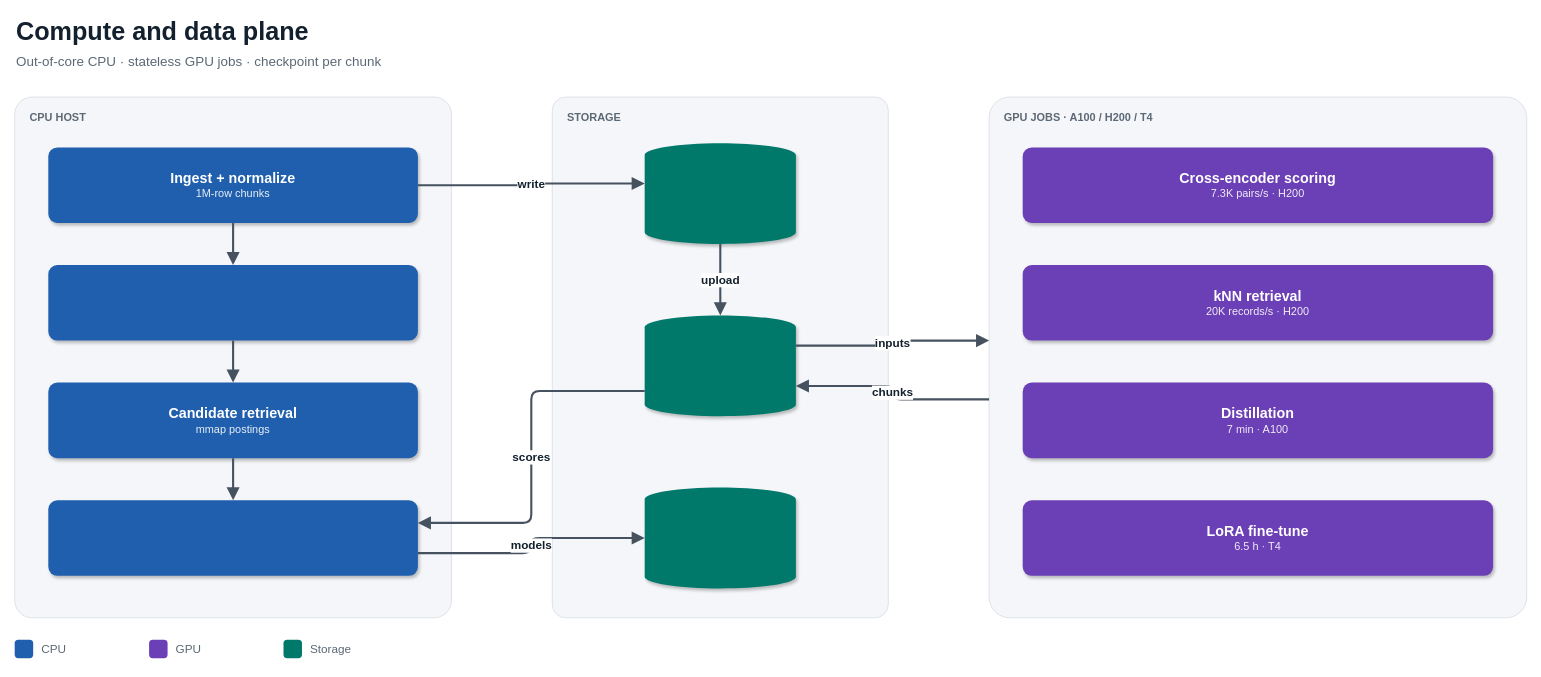
Image size: 1541x677. Some labels were removed from this diagram. Each missing label, with the centre of its shape:
"Git LFS models" belongs at pixel 721 539.
"HF dataset pairs · scores" belongs at pixel 721 367.
"Index build map → 64 shards → reduce" belongs at pixel 234 303.
"LightGBM 3.9M training rows" belongs at pixel 234 538.
"Parquet 13 GB" belongs at pixel 721 194.
